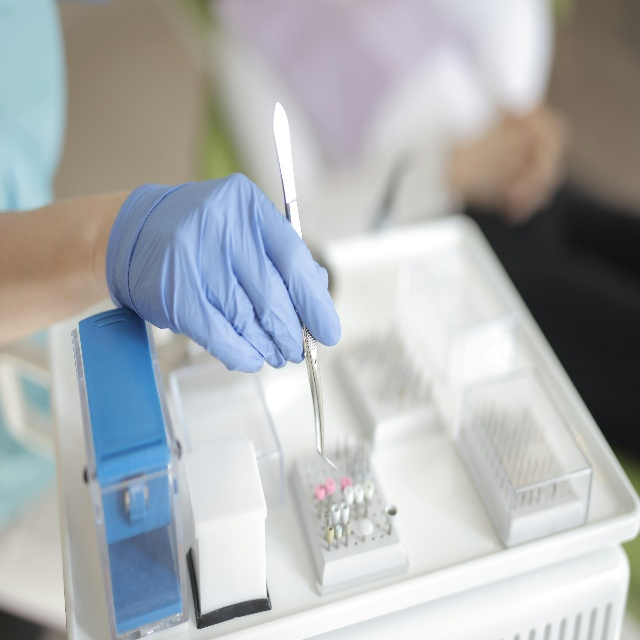Guantes: (104, 171, 342, 373)
